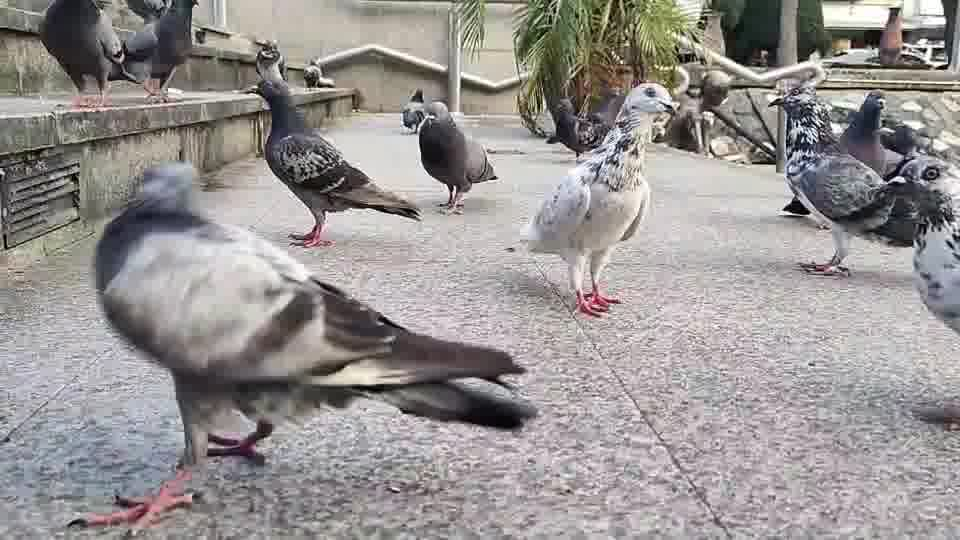Pigeon: (68, 158, 538, 531), (238, 43, 423, 248), (520, 80, 679, 318), (769, 85, 903, 277), (881, 153, 959, 430), (399, 87, 499, 215), (37, 0, 141, 108), (114, 0, 199, 104), (545, 94, 606, 160)
